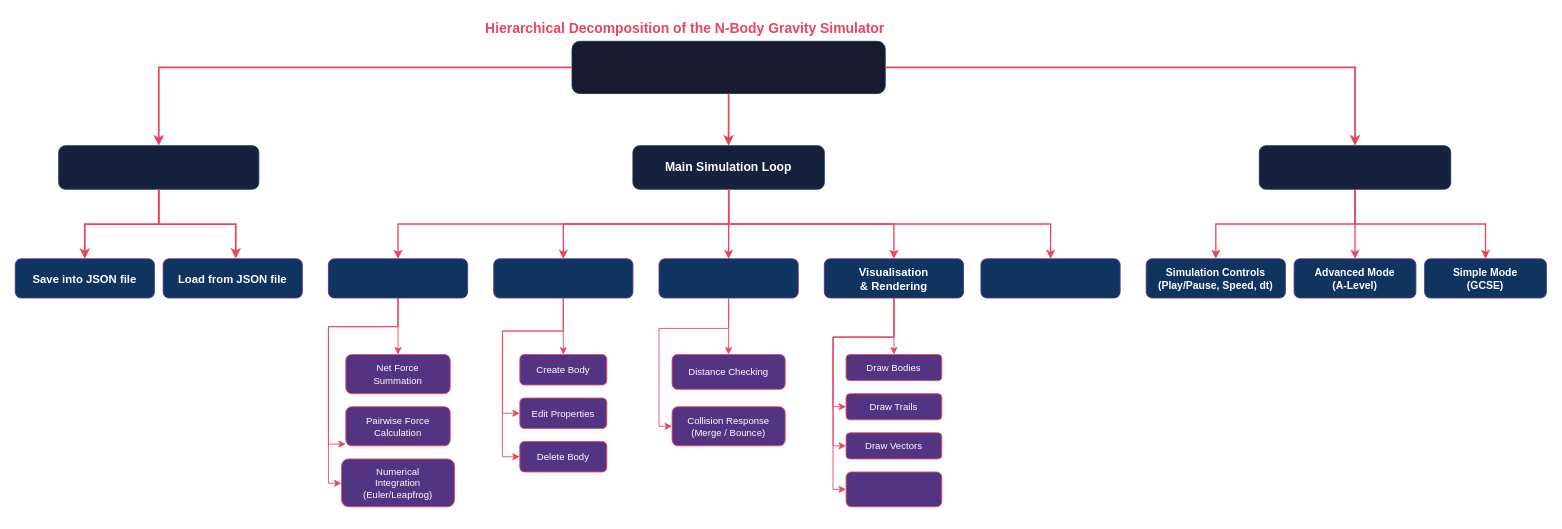
Image size: 1562x529. Some labels were removed from this diagram. Here are the shapes that lost their labels. From the top down, the centre of each, then its label:
point 728,67: N-Body Gravity Simulator
point 158,167: Data Persistence
point 1354,167: User Interface (GUI)
point 398,278: Physics Engine
point 563,278: Body Management
point 728,278: Collision Detection & Response
point 1050,278: Performance Monitoring
point 893,489: Camera Controls (Zoom / Pan)
